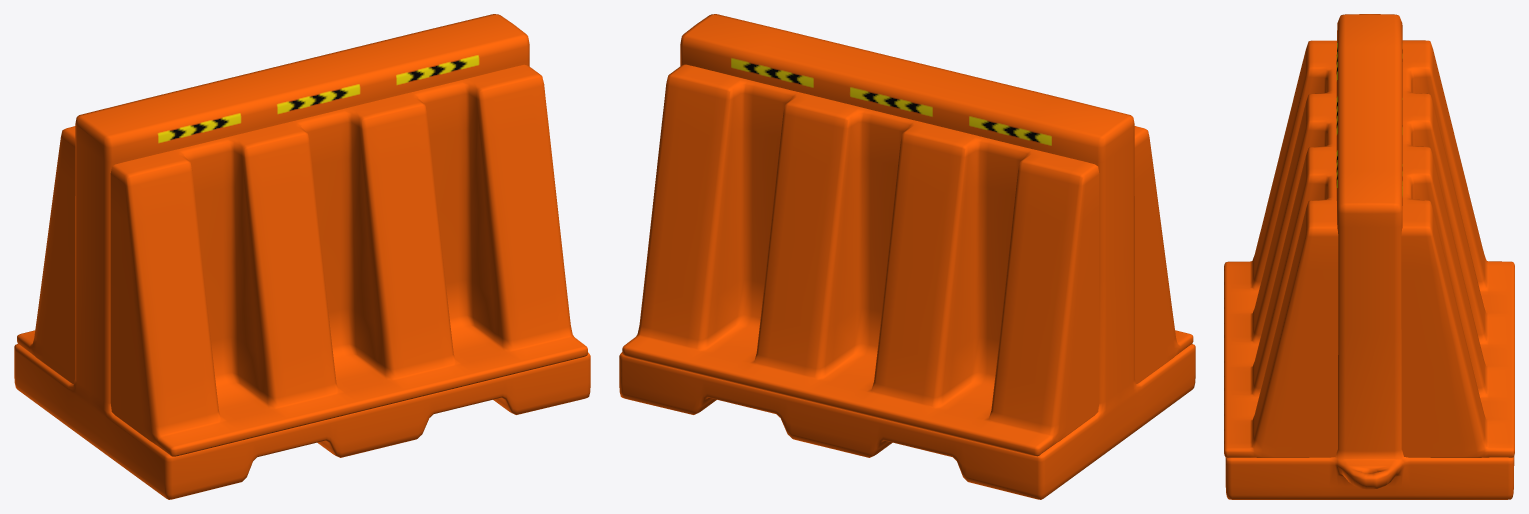
The model's file is road barrier.fbx.
The picture shows the model from 3 angles, left to right: view 1: azimuth 30°, elevation 25°; view 2: azimuth 150°, elevation 25°; view 3: azimuth 270°, elevation 25°; orthographic projection. The views are drawn at different scales.
Parts seen in each view (by area): view 1: Road barrier; view 2: Road barrier; view 3: Road barrier.
Boxes of the visible parts, box(x1,y1,x2,y2) form: Road barrier: box(14, 14, 590, 499); Road barrier: box(619, 14, 1195, 499); Road barrier: box(1224, 14, 1514, 499).
Bounding box in the file's own units: 187 × 123 × 109.
Materials: 1 (1 with a texture image).
